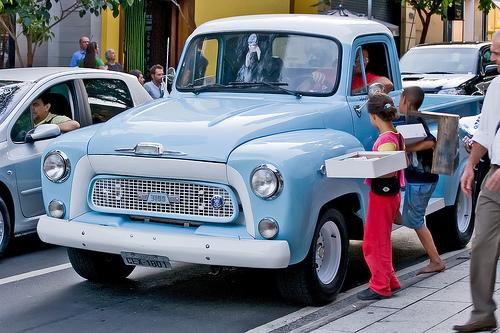truck: (37, 14, 494, 308)
